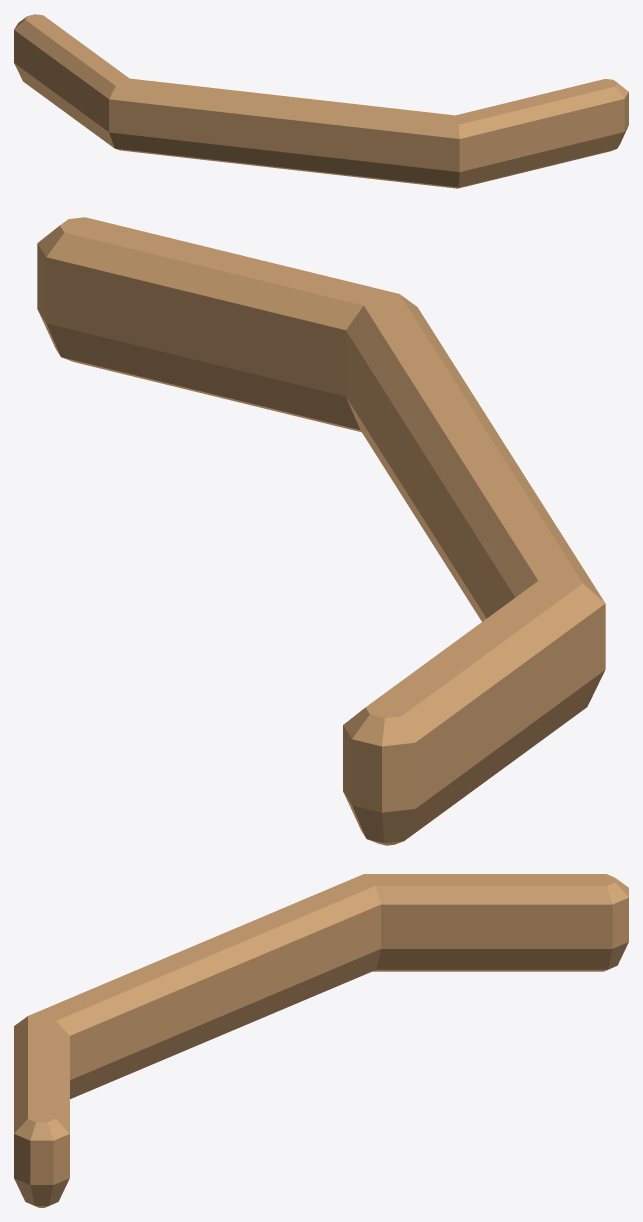
Rendered from Balcony_Base_Curved_Large.obj.
The picture shows the model from 3 angles, top to bottom: view 1: azimuth 30°, elevation 25°; view 2: azimuth 150°, elevation 25°; view 3: azimuth 270°, elevation 25°; orthographic projection. The views are drawn at different scales.
Visible parts, largest first — view 1: object1; view 2: object1; view 3: object1.
Boxes of the visible parts, x1=… form: object1: x1=14, y1=14, x2=628, y2=188; object1: x1=37, y1=217, x2=605, y2=845; object1: x1=14, y1=874, x2=628, y2=1207.
Bounding box in the file's own units: 2.2 × 0.35 × 2.2.
